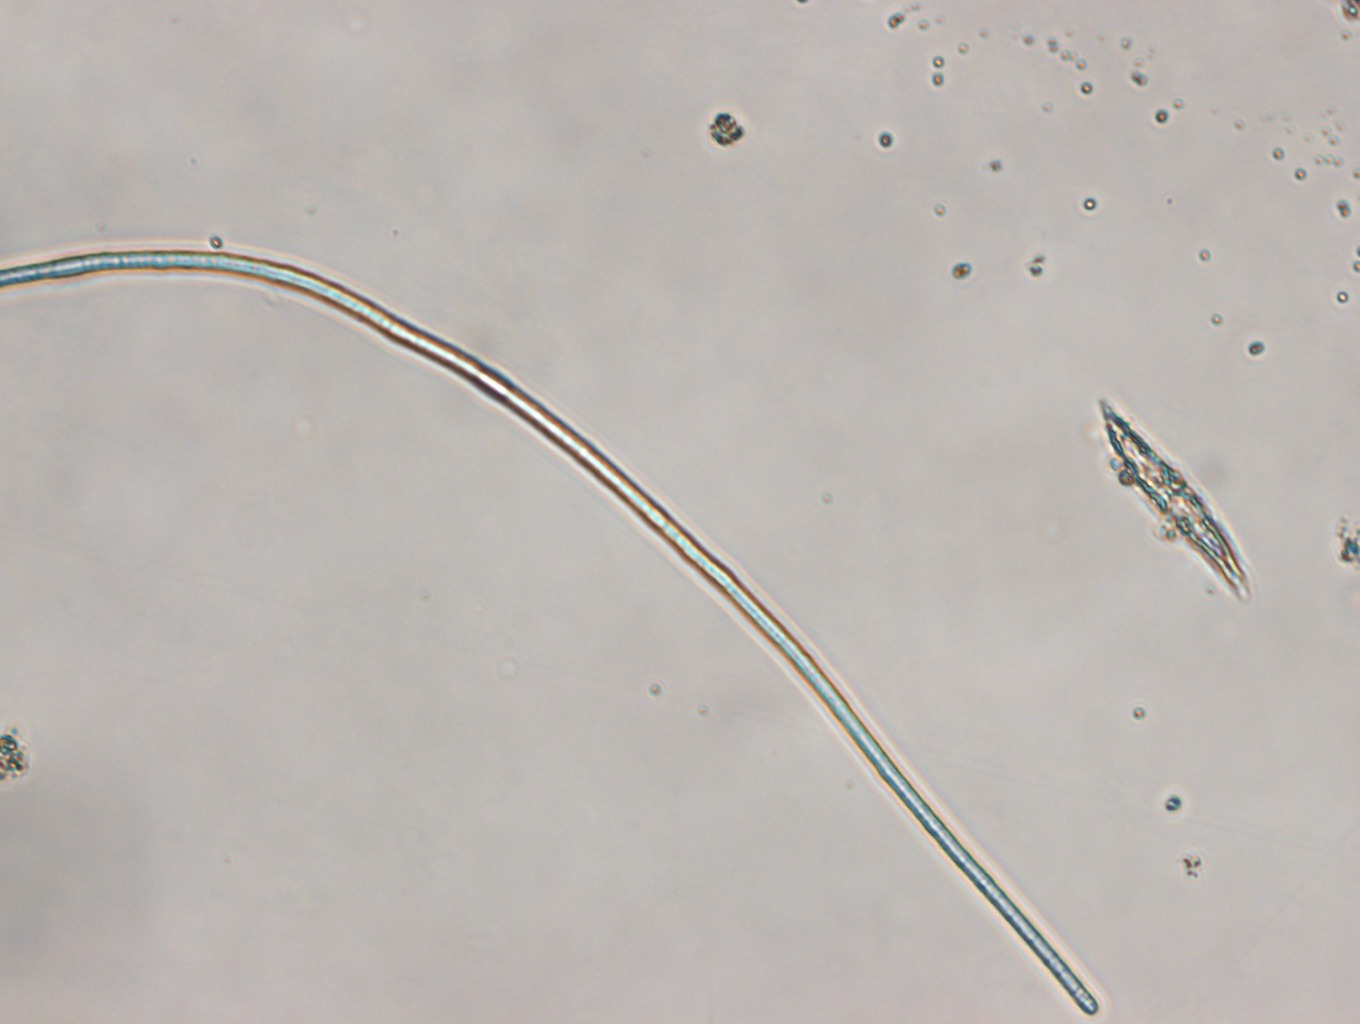pleurosigma pelagicum: (1096, 392, 1252, 601)
